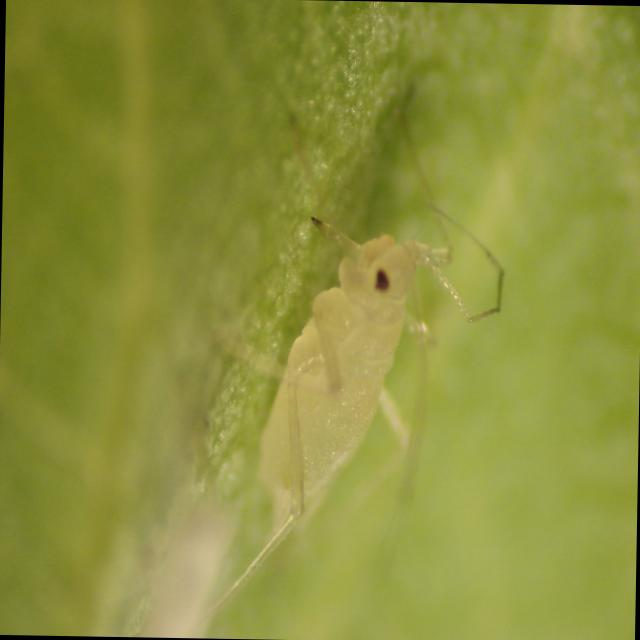Aphids: (221, 148, 488, 569)
